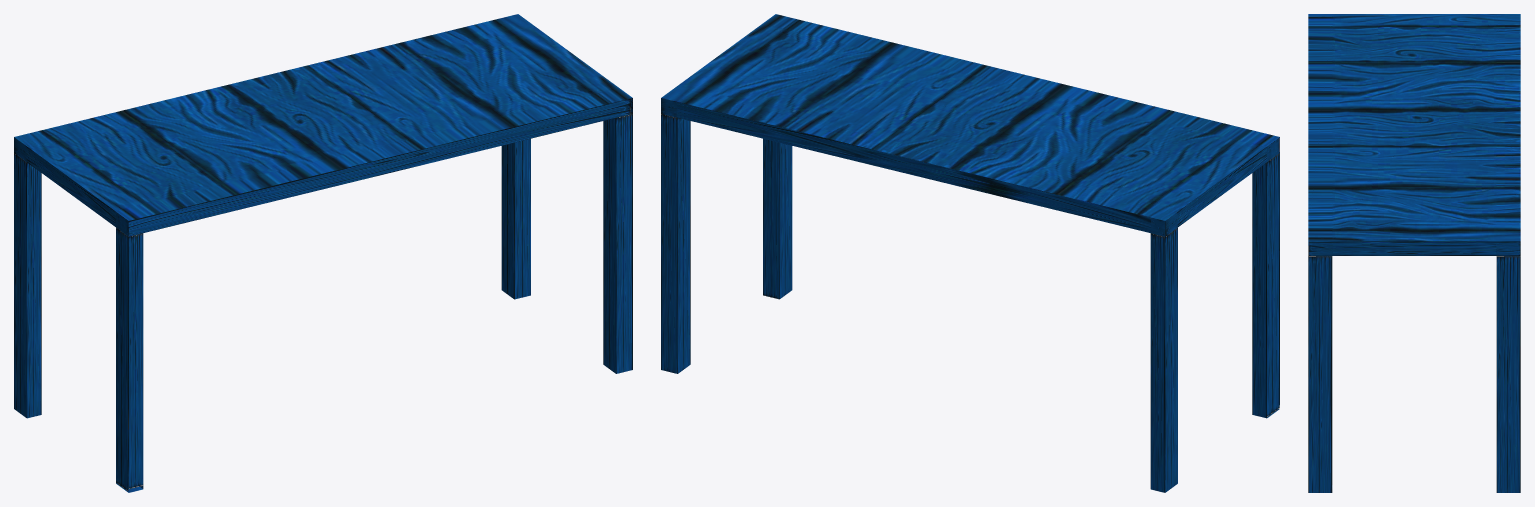
Rendered from tabletest.dae.
3 renders of one model, left to right at view 1: azimuth 30°, elevation 25°; view 2: azimuth 150°, elevation 25°; view 3: azimuth 270°, elevation 25°, orthographic. The views are drawn at different scales.
Parts seen in each view (by area): view 1: Cube; view 2: Cube; view 3: Cube.
Part boxes in pixels (bbox=[...]): Cube: bbox=[14, 14, 632, 492]; Cube: bbox=[661, 14, 1279, 492]; Cube: bbox=[1308, 14, 1520, 492].
Size of the model in its own units: 7.35 by 2.9 by 3.79.
